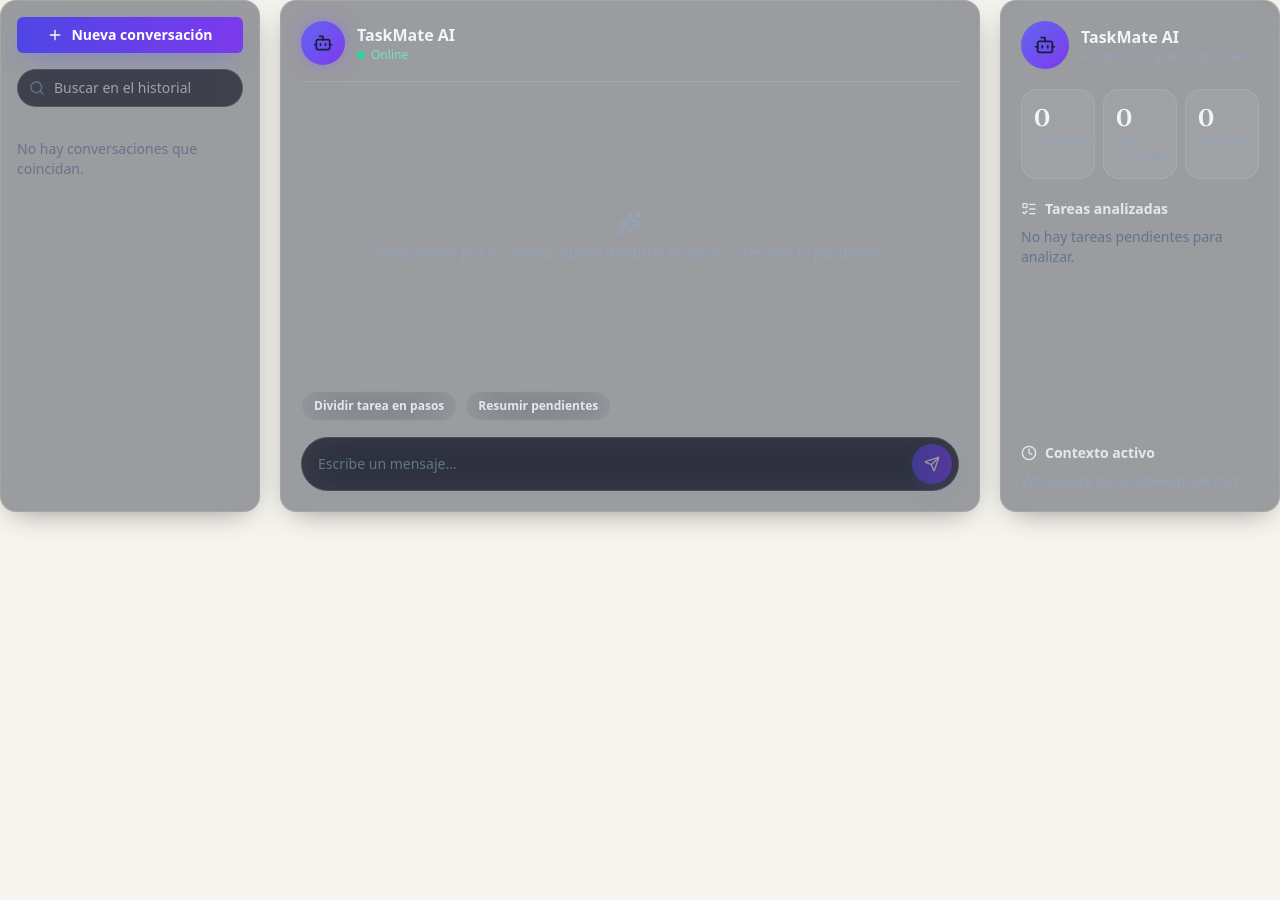
Chat con IA › muestra el error y no agrega respuesta cuando la IA falla
Type "Hola" into the field named "Mensaje para TaskMate AI". click: (611, 464)
box: 318,454 -> 904,474
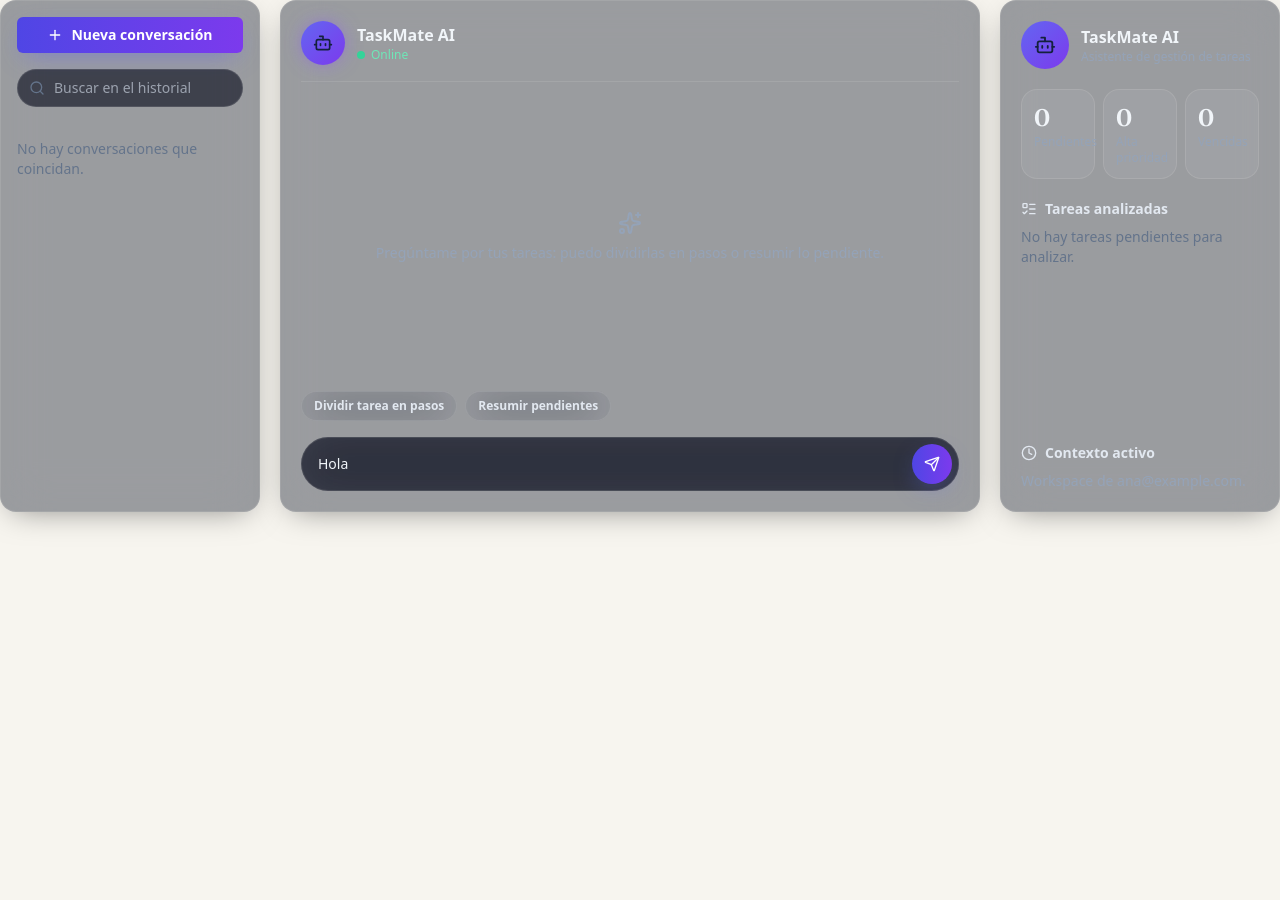
Click the button named "Enviar mensaje". click: click(932, 464)
box: 912,444 -> 952,484
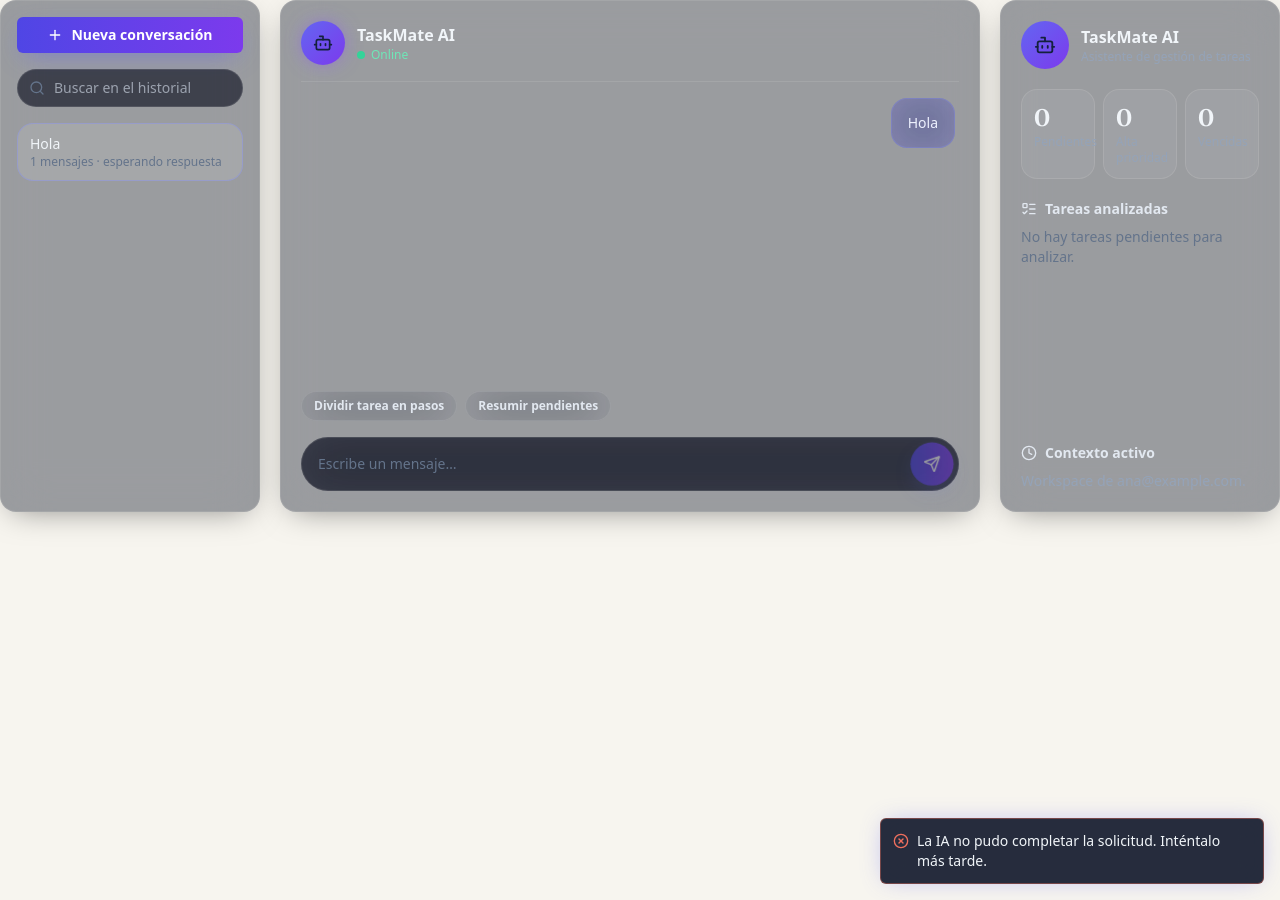
Result: the text "La IA no pudo completar la solicitud. Inténtalo más tarde." is shown at 917,831 -> 1251,871
Result: the 1st text "Hola" is shown at 891,98 -> 955,148
